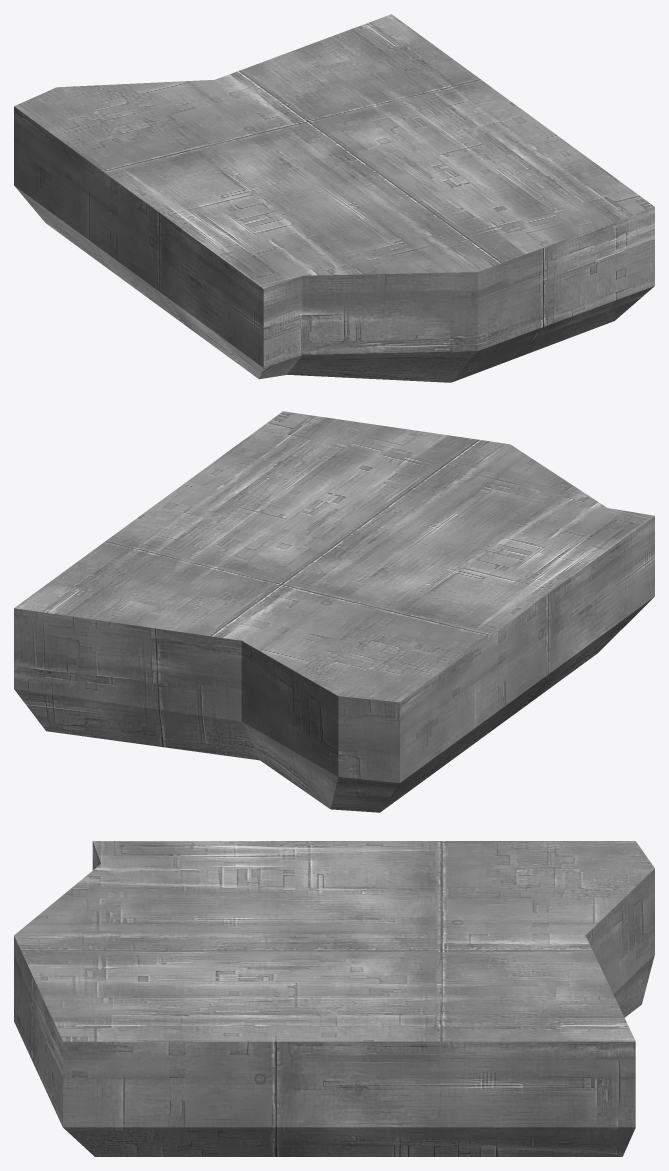
Rendered from Platform_Broken_02.fbx.
3 views of the same model, one above another, from view 1: azimuth 30°, elevation 25°; view 2: azimuth 150°, elevation 25°; view 3: azimuth 270°, elevation 25° (orthographic). The views are drawn at different scales.
Parts seen in each view (by area): view 1: Platform_Broken_02; view 2: Platform_Broken_02; view 3: Platform_Broken_02.
Boxes of the visible parts, x1=… form: Platform_Broken_02: x1=14, y1=14, x2=654, y2=382; Platform_Broken_02: x1=14, y1=411, x2=654, y2=812; Platform_Broken_02: x1=14, y1=841, x2=654, y2=1156.
Bounding box in the file's own units: 1000 × 300 × 1351.
